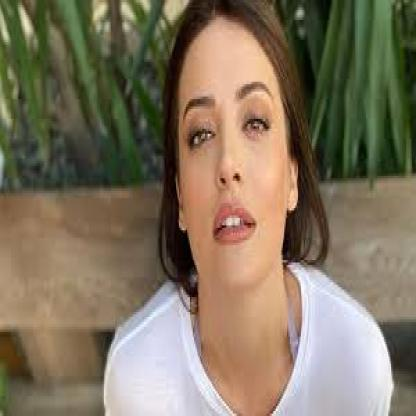person: (160, 0, 310, 285)
